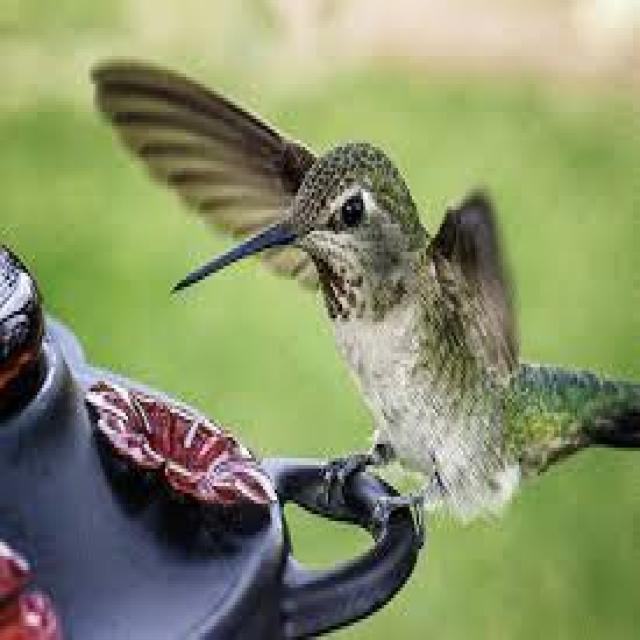Humming Bird: (92, 62, 640, 512)
